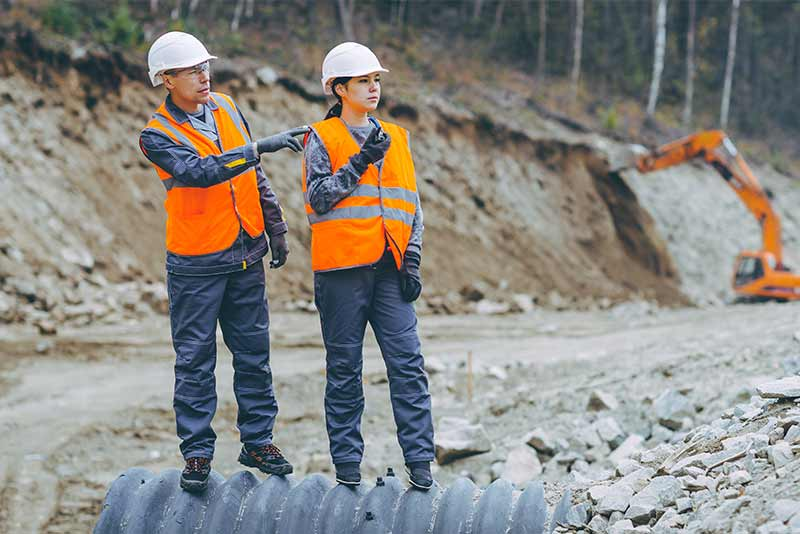Gloves: (255, 121, 310, 169), (397, 245, 430, 313), (345, 131, 403, 161)
Hard Hat: (136, 27, 222, 88), (304, 36, 394, 92)
Safety Vest: (127, 98, 278, 258), (303, 115, 422, 275)
Steel-toe Boots: (235, 426, 302, 477), (171, 445, 220, 492), (324, 446, 372, 491), (406, 452, 437, 487)
